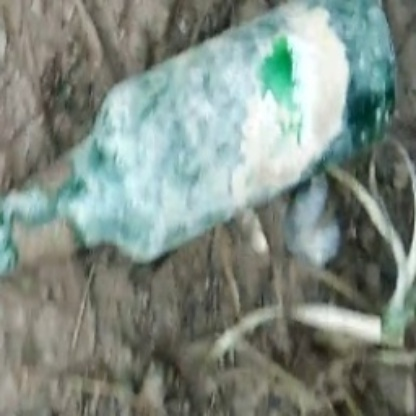bottle: (7, 2, 400, 276)
